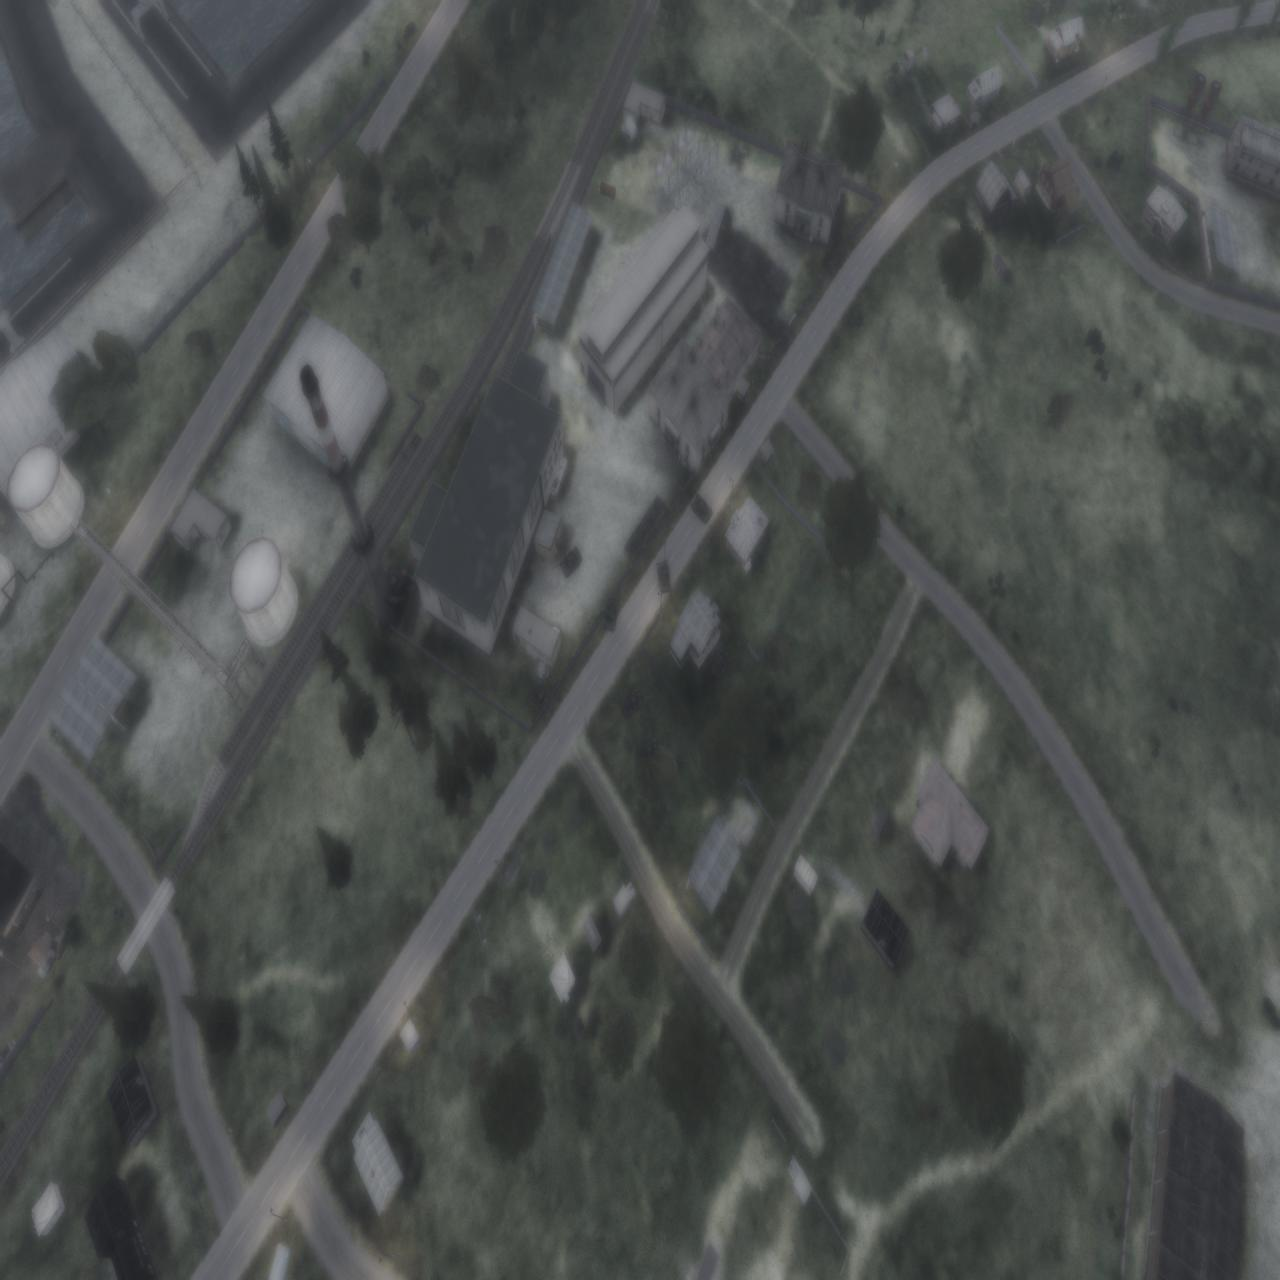MIL_Veh: (618, 682, 651, 716), (552, 547, 583, 577), (656, 545, 673, 595), (690, 493, 714, 524), (601, 598, 618, 641), (712, 647, 730, 683)
